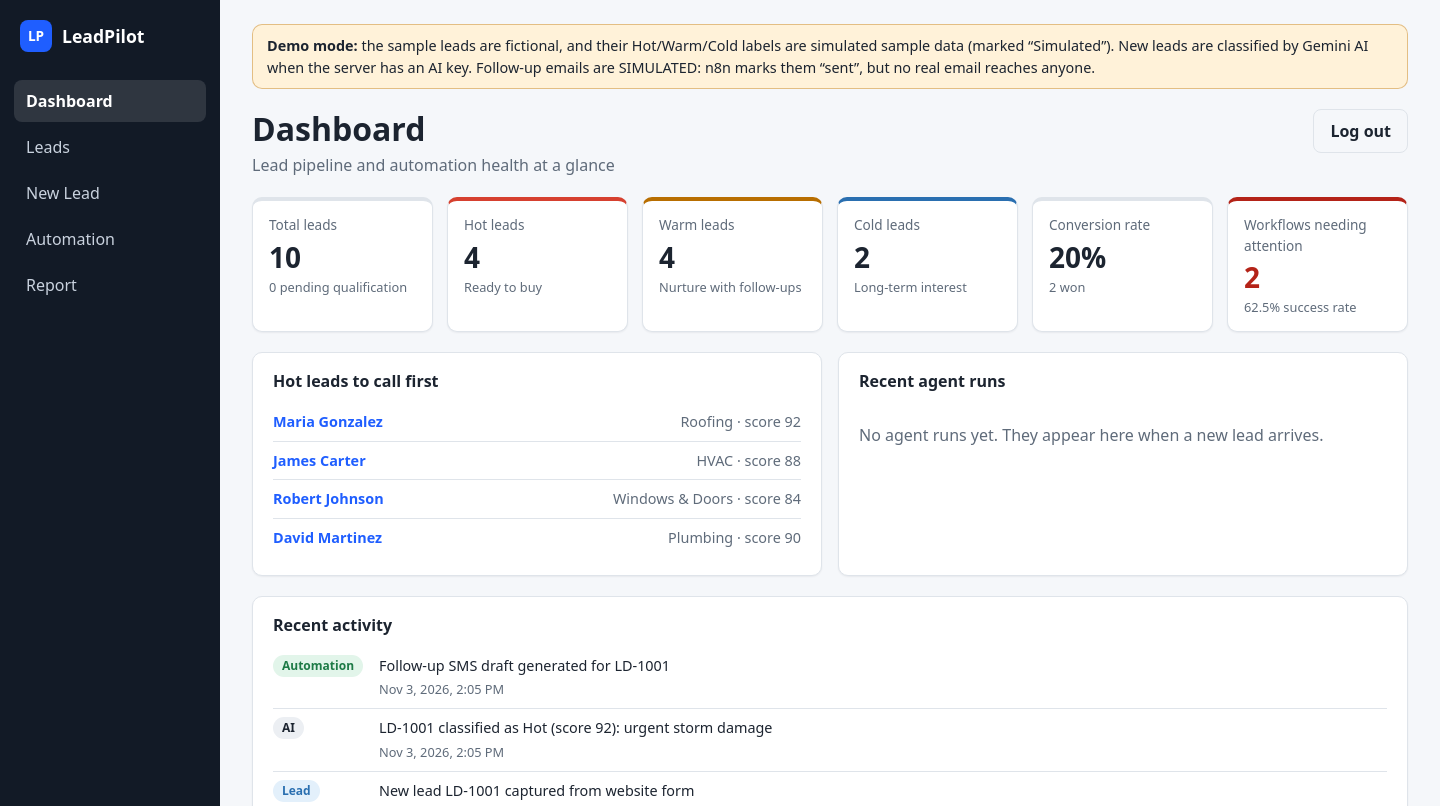
operational report › nothing to measure yet → a dash, never "NaN"
expect the heading "Hot leads to call first" is shown: met, box [273,370,438,392]
Click the button "Report": (110, 285) [14,264,206,306]
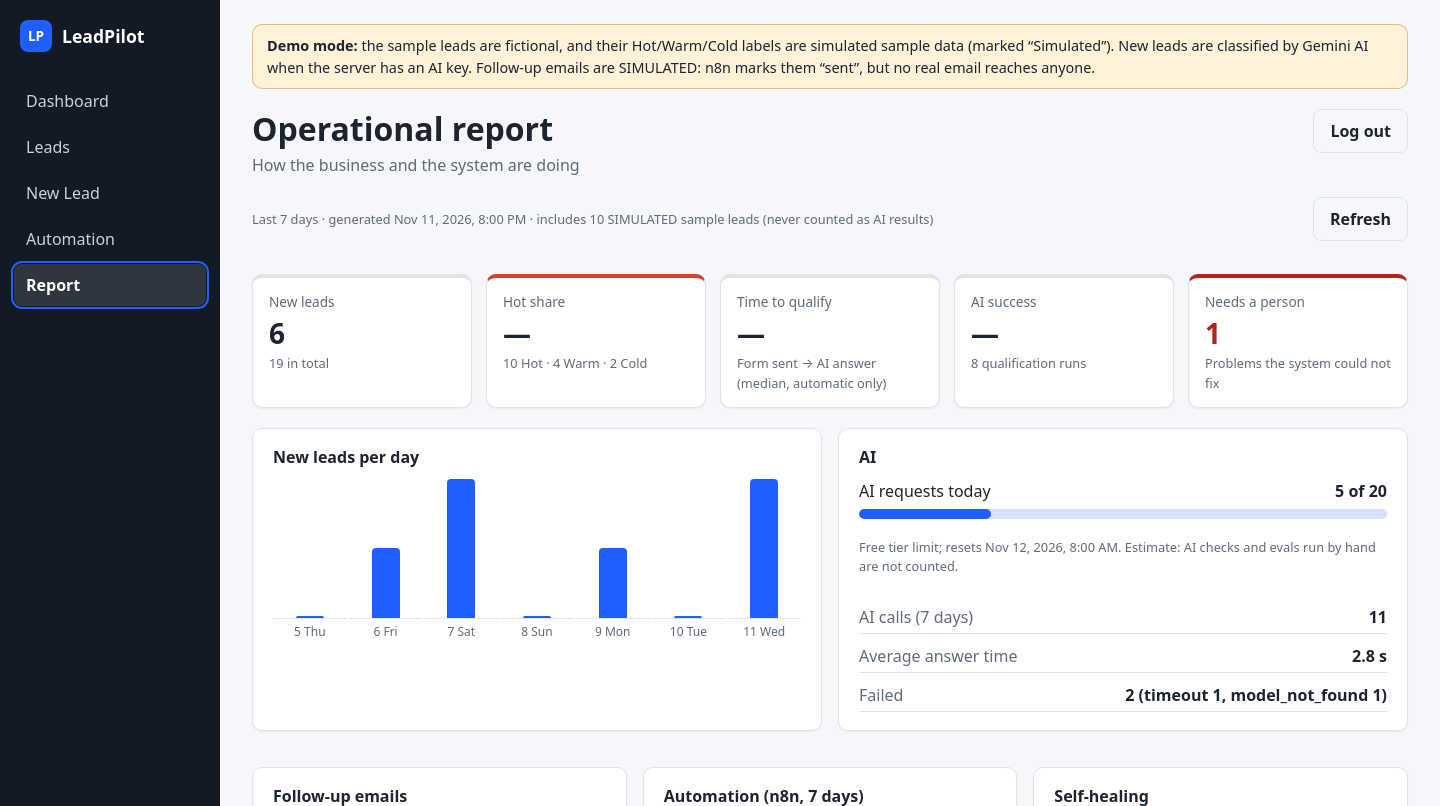
expect the element named "Key numbers" is shown: met, box [252,274,1408,408]
expect the text "—" below "Hot share" is shown: met, box [503,314,531,352]
